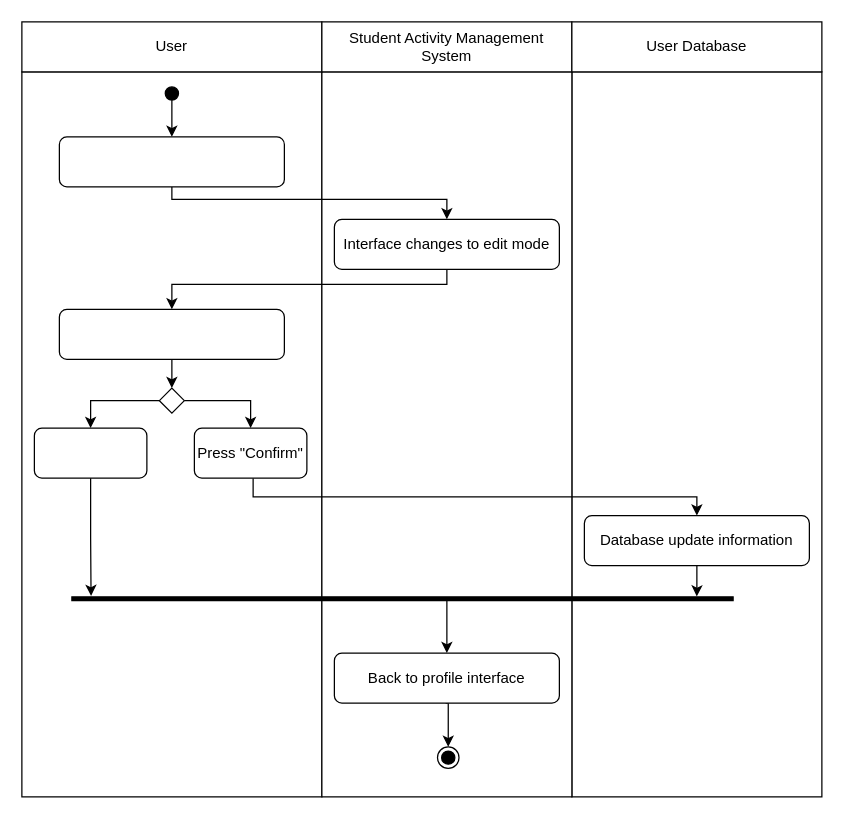
Some shapes in this 844 by 819 pixel diagram are drawn without their labels. Here are the shapes that lost their labels. From the top down, the centre of each, then its label:
the point at 171,161: User presses the edit button
the point at 171,333: User manually edit information
the point at 90,452: Press "Cancel"
